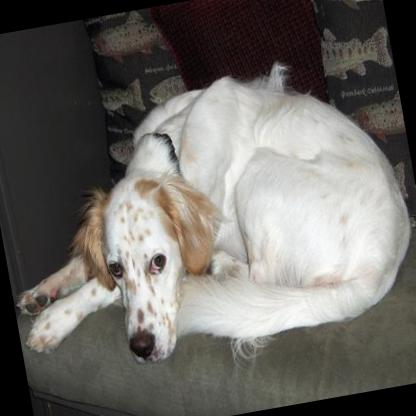English_setter: (0, 39, 416, 407)
